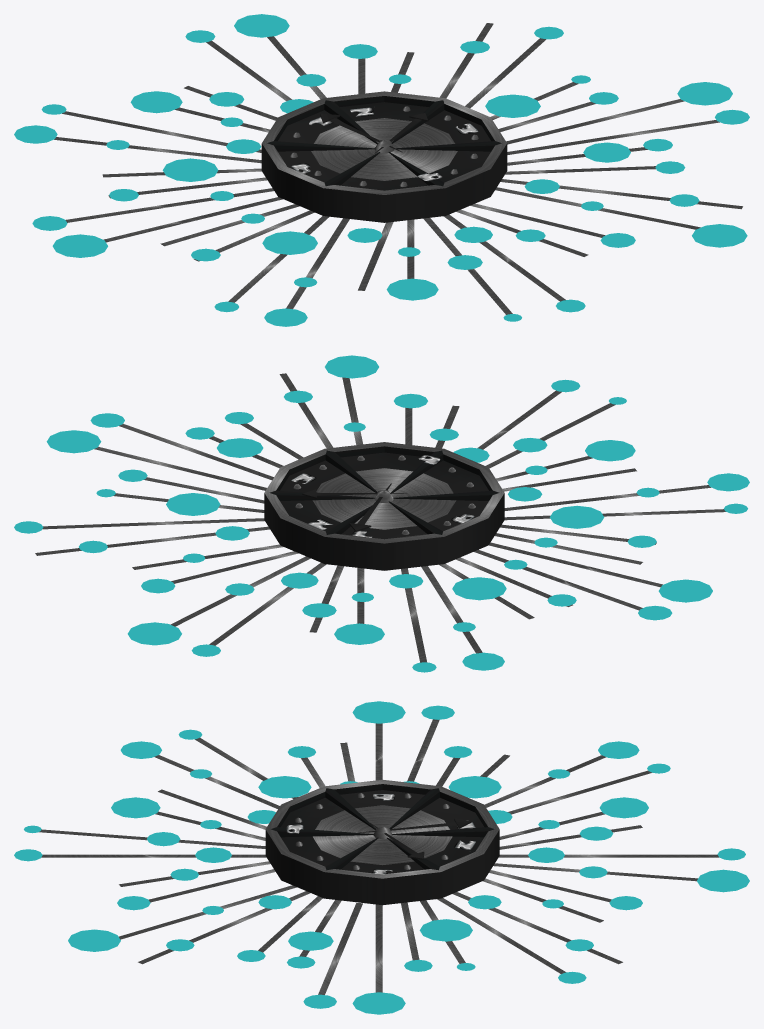
File: Clock_02_D.FBX
The picture shows the model from 3 angles, top to bottom: view 1: azimuth 30°, elevation 25°; view 2: azimuth 150°, elevation 25°; view 3: azimuth 270°, elevation 25°; orthographic projection. The views are drawn at different scales.
Visible parts, largest first — view 1: Starburst_Clock_B; view 2: Starburst_Clock_B; view 3: Starburst_Clock_B.
Part boxes in pixels (x1=…): Starburst_Clock_B: x1=14, y1=14, x2=749, y2=326; Starburst_Clock_B: x1=14, y1=355, x2=749, y2=672; Starburst_Clock_B: x1=14, y1=701, x2=749, y2=1014.
Size of the model in its own units: 76.01 by 3.32 by 75.43.
